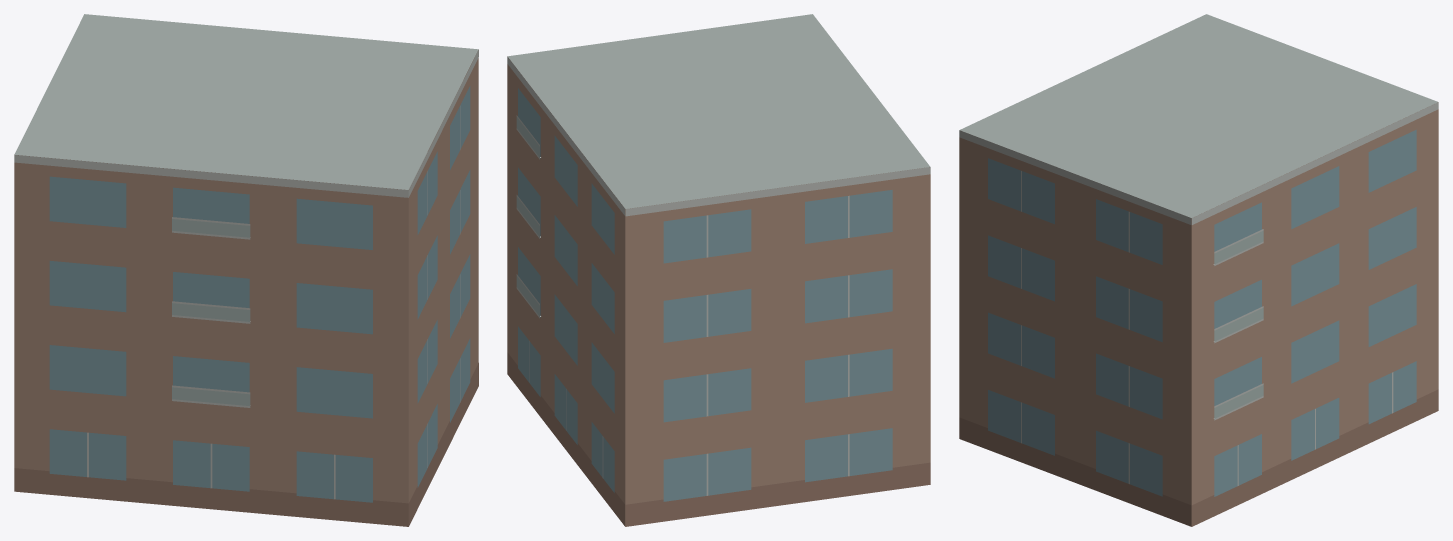
The model's file is survey-upis-32525897.glb.
3 renders of one model, left to right at view 1: azimuth 30°, elevation 25°; view 2: azimuth 150°, elevation 25°; view 3: azimuth 270°, elevation 25°, orthographic. The views are drawn at different scales.
Visible parts, largest first — view 1: survey-upis-32525897.tmp; view 2: survey-upis-32525897.tmp; view 3: survey-upis-32525897.tmp.
Boxes of the visible parts, x1,y1,x2,y2 form: survey-upis-32525897.tmp: (14, 14, 478, 526); survey-upis-32525897.tmp: (507, 14, 930, 526); survey-upis-32525897.tmp: (959, 14, 1438, 526).
Size of the model in its own units: 14.9 by 10.5 by 14.78.
